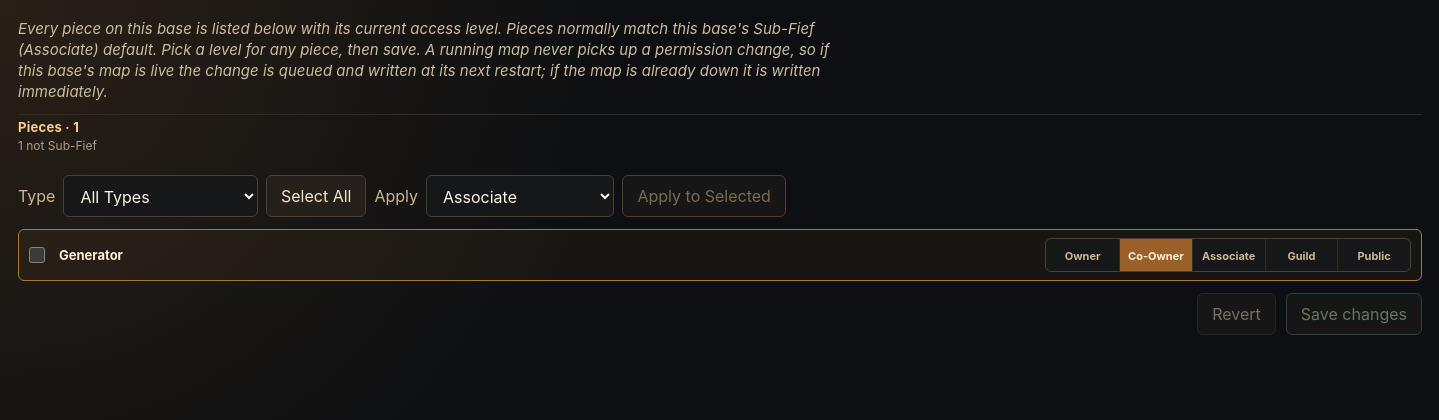
Test: BaseChildPermissionsTab › Apply to Selected uses whichever level is chosen in the Apply dropdown
The width and height of the screenshot is (1439, 420).
Click the checkbox named "Select Generator": (37, 255) 29,247 -> 45,263
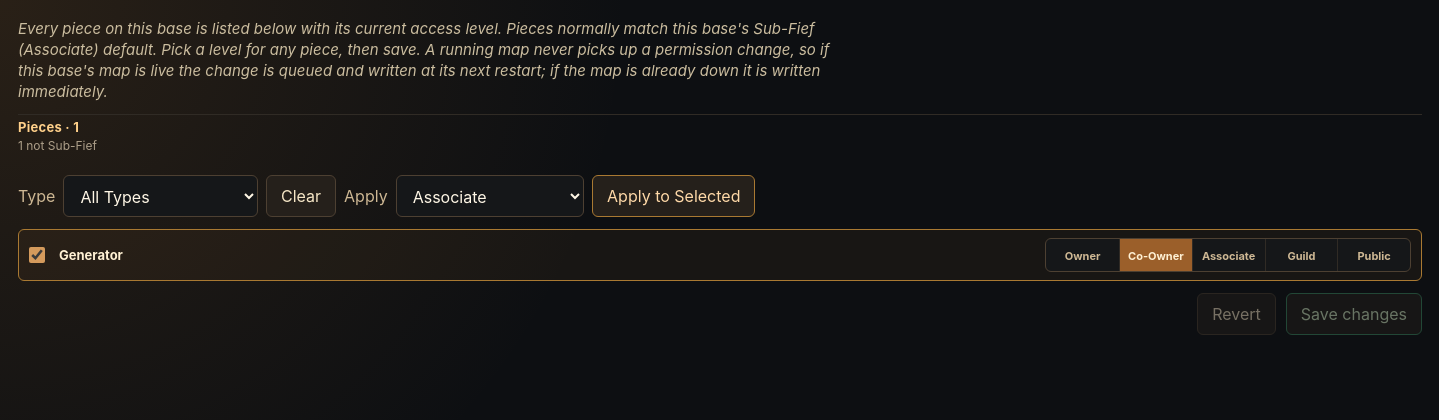
Select "Public" in the dropdown labelled "Apply": (490, 196) 396,175 -> 584,217
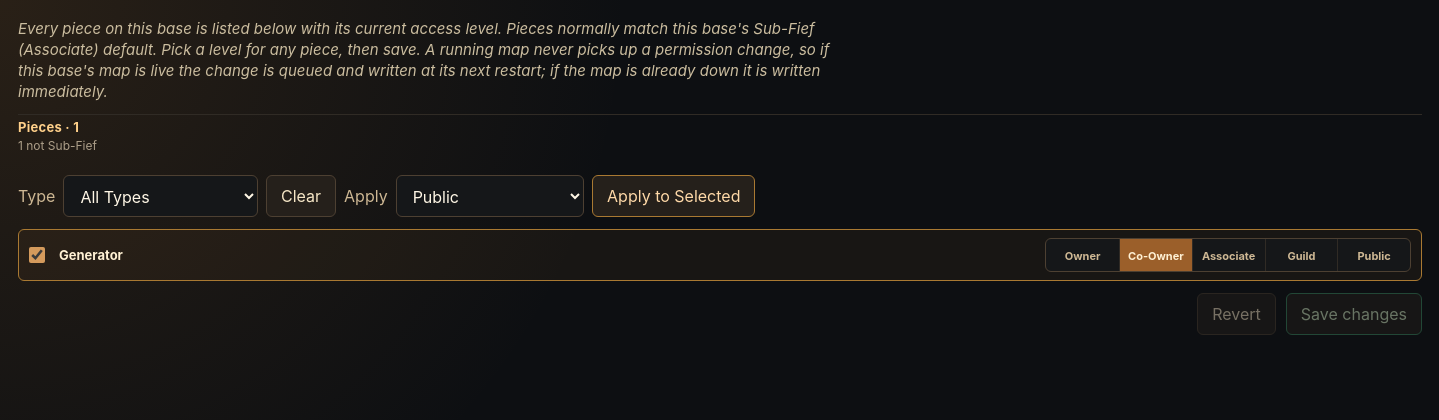
Click the button "Apply to Selected": (674, 196) 592,175 -> 756,217
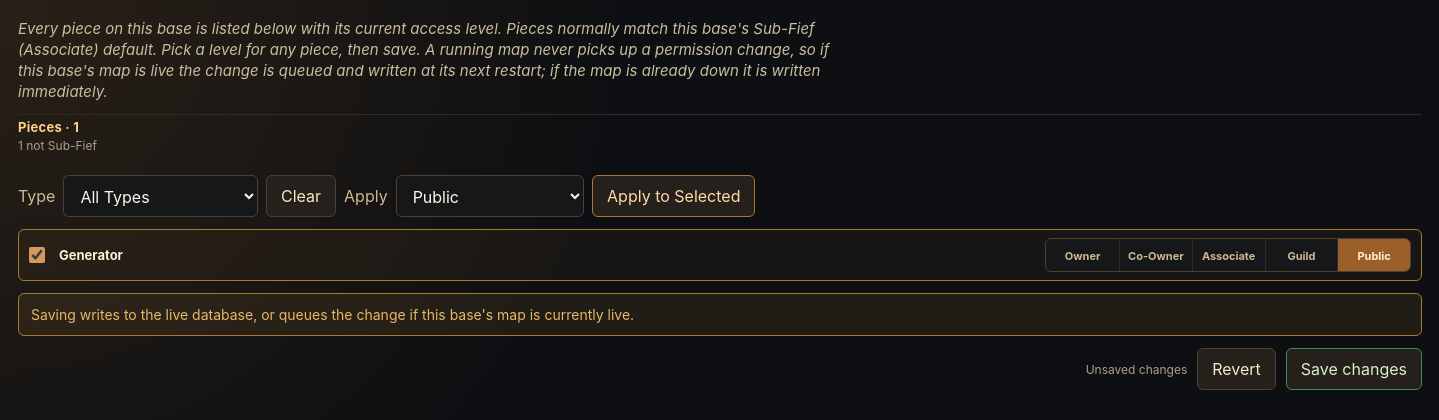
Check: the radio button with aria-label "Public for Generator" is checked, box 1337,239 -> 1410,272
